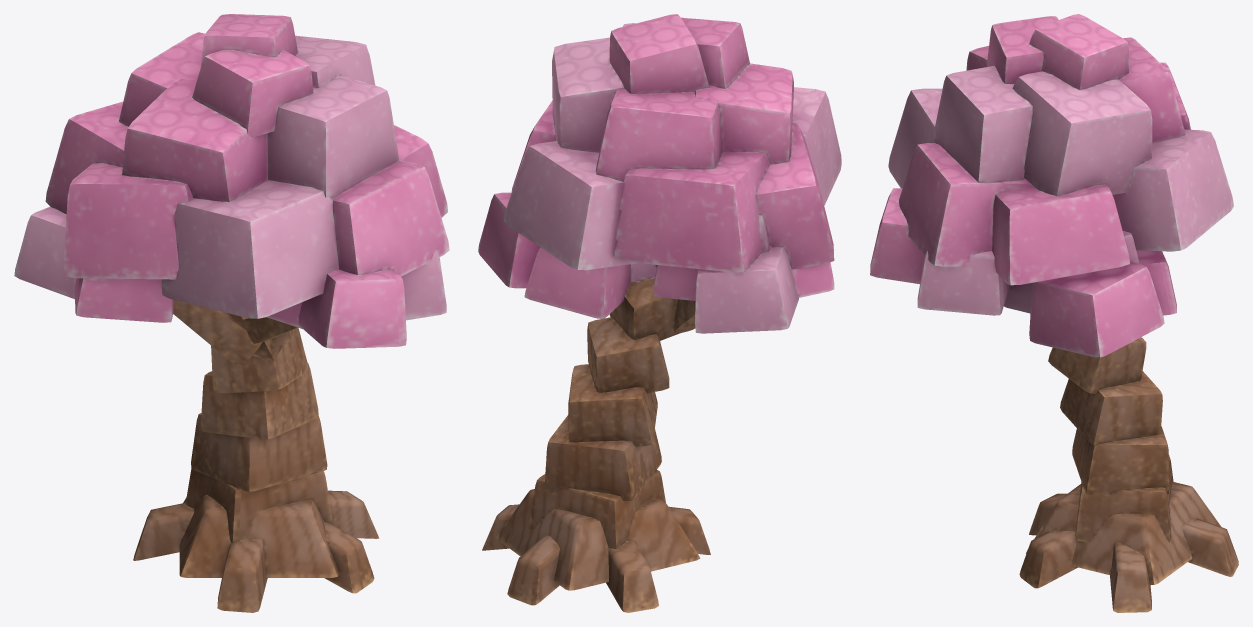
The model's file is ArbreCerisier.fbx.
3 views of the same model, side by side, from view 1: azimuth 30°, elevation 25°; view 2: azimuth 150°, elevation 25°; view 3: azimuth 270°, elevation 25° (orthographic). The views are drawn at different scales.
Visible parts, largest first — view 1: ArbreCerisier; view 2: ArbreCerisier; view 3: ArbreCerisier.
Boxes of the visible parts, x1,y1,x2,y2 form: ArbreCerisier: (14, 14, 449, 612); ArbreCerisier: (478, 14, 841, 612); ArbreCerisier: (870, 14, 1238, 612).
Bounding box in the file's own units: 1206 × 1785 × 1153.
Materials: 1 (1 with a texture image).
